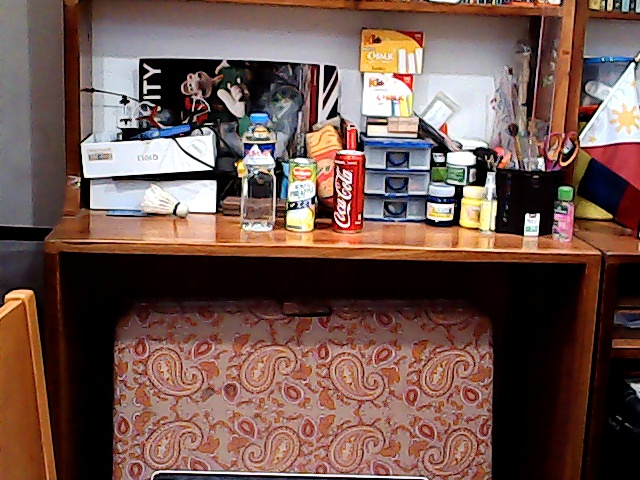Cola: (329, 151, 368, 234)
Pine Juice: (281, 149, 319, 236)
Summit Water: (236, 111, 280, 239)
